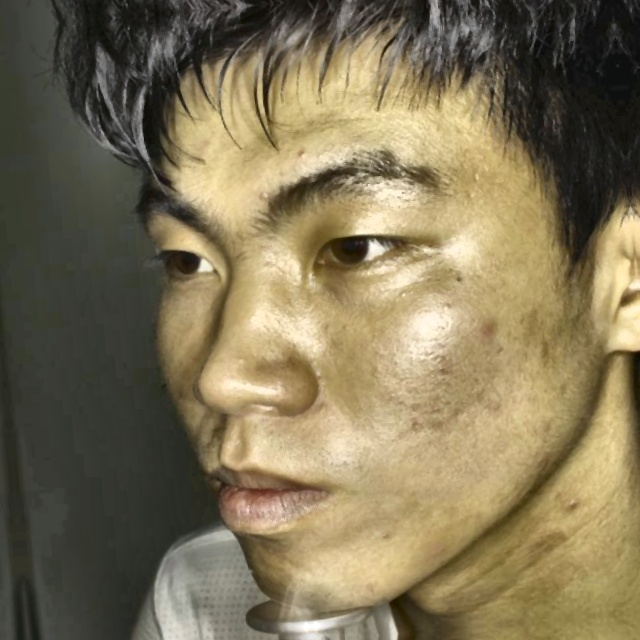comedone: (477, 309, 524, 352)
